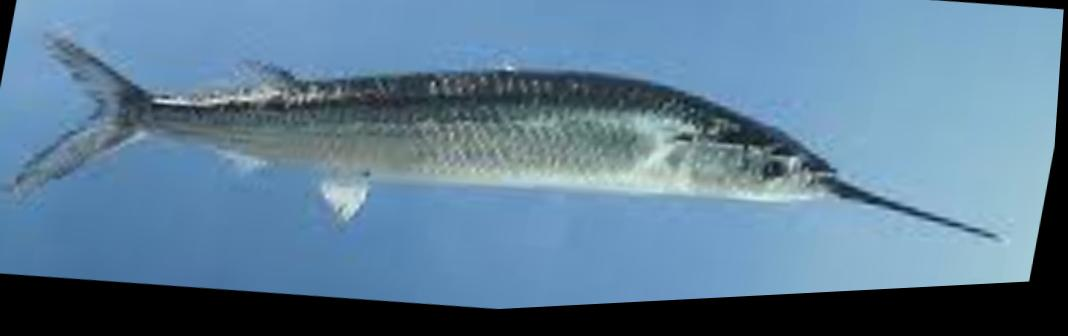fish: (11, 31, 1003, 252)
